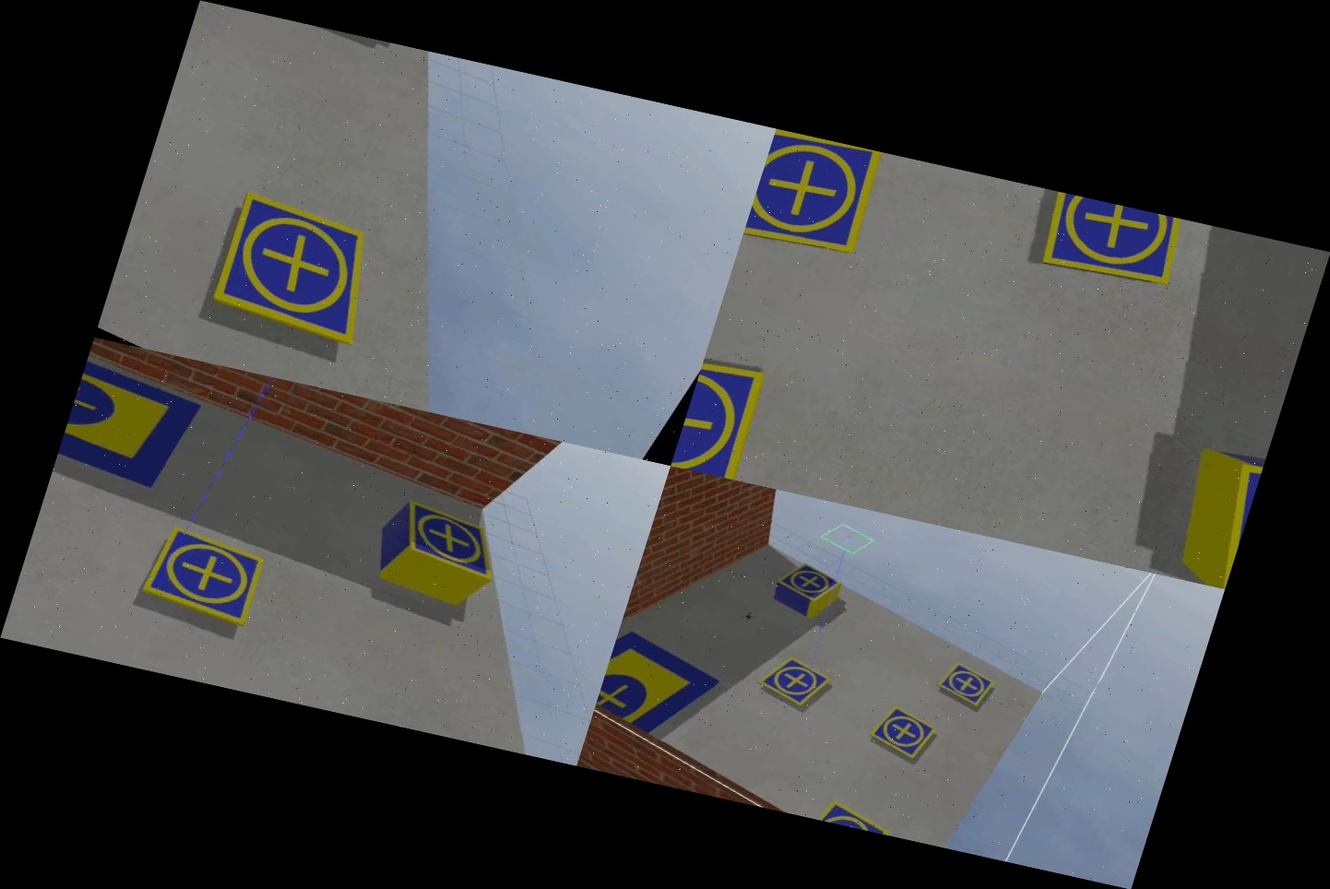large_base: (47, 338, 220, 515), (588, 618, 734, 753)
small_base: (173, 176, 417, 367), (734, 128, 916, 293), (998, 184, 1213, 321), (125, 516, 288, 642), (671, 332, 804, 486), (1163, 421, 1273, 589), (374, 491, 525, 592), (753, 649, 837, 714), (863, 701, 942, 765), (773, 556, 847, 607), (932, 658, 1001, 711), (813, 798, 896, 835)
